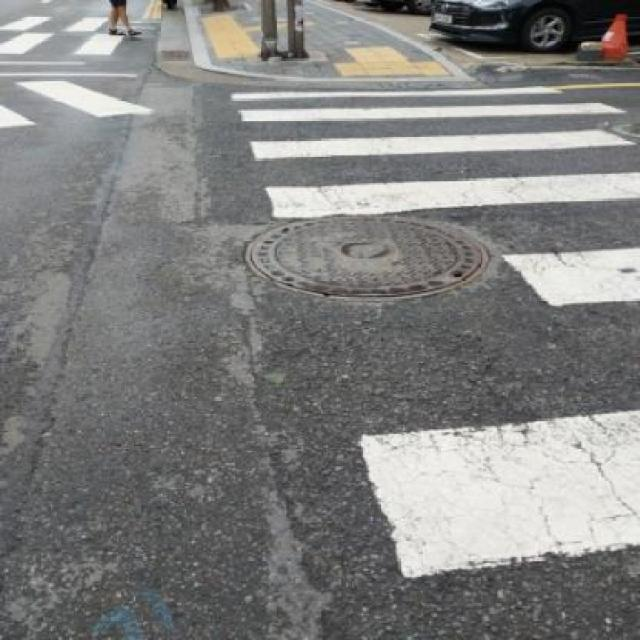Sewer Cover: (233, 196, 502, 319)
